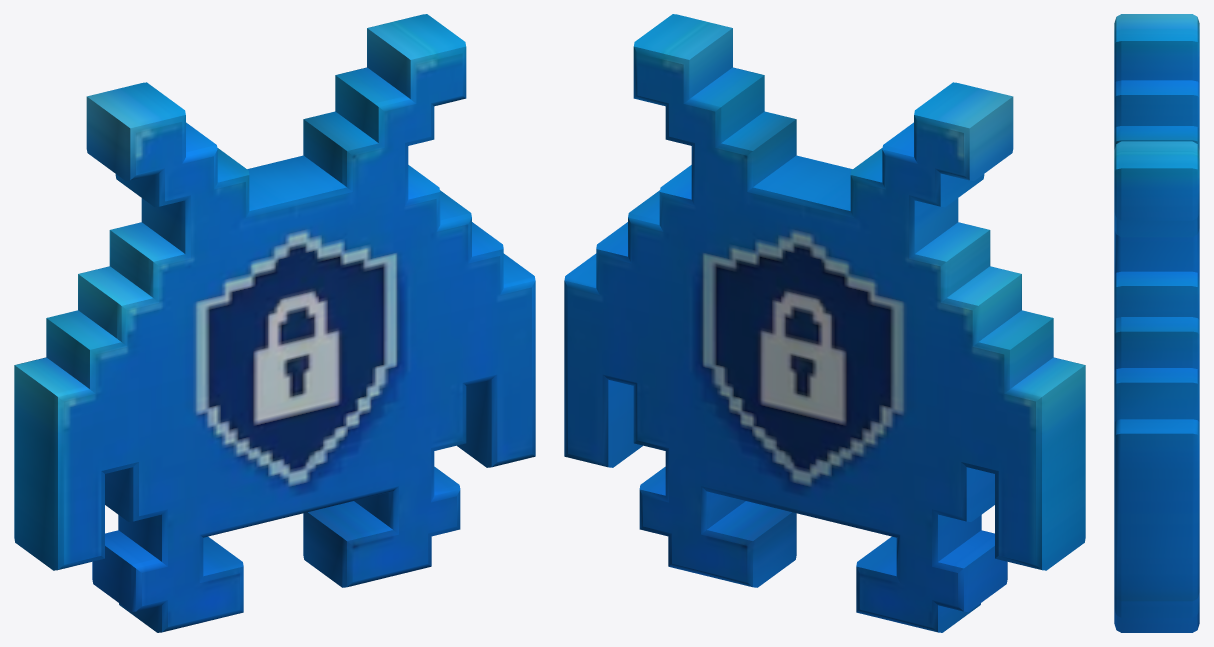
The model's file is alien1.glb.
The picture shows the model from 3 angles, left to right: view 1: azimuth 30°, elevation 25°; view 2: azimuth 150°, elevation 25°; view 3: azimuth 270°, elevation 25°; orthographic projection. The views are drawn at different scales.
Visible parts, largest first — view 1: alien1; view 2: alien1; view 3: alien1.
Part boxes in pixels (x1,y1,x2,y2): alien1: (14, 14, 535, 632); alien1: (564, 14, 1085, 632); alien1: (1114, 14, 1199, 632).
Size of the model in its own units: 0.7274 by 0.7449 by 0.12.
1 material, 1 textured.
